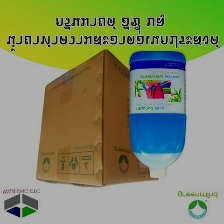book: (31, 45, 162, 189)
cleaning_solution: (126, 49, 190, 179)
